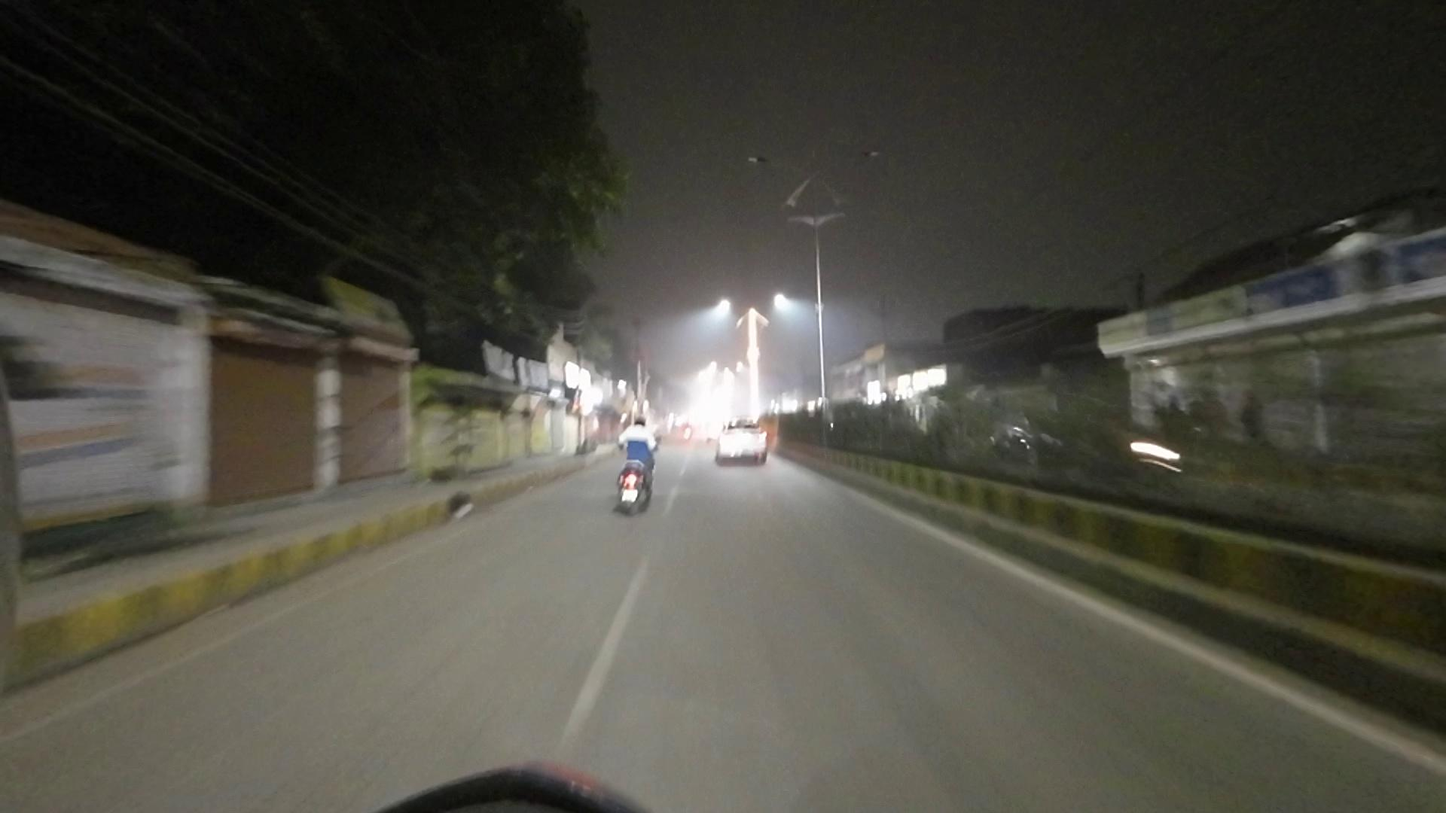streetlight: (743, 152, 797, 170), (833, 148, 883, 164)
